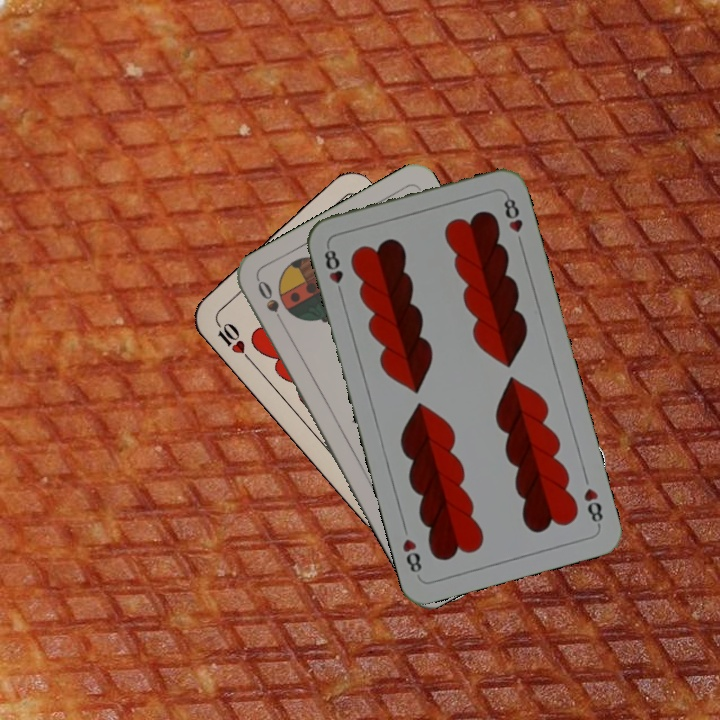H10: (211, 315, 254, 364)
H8: (320, 242, 346, 300), (579, 484, 606, 530)
SO: (253, 276, 289, 331)
